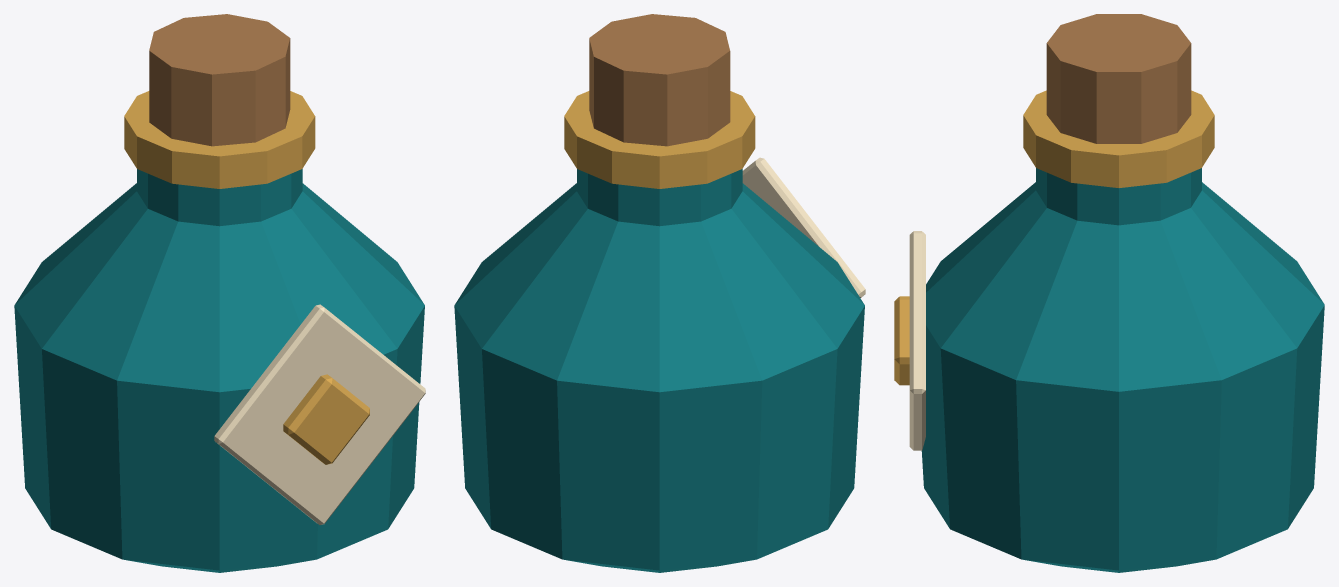
File: 14_Alchemy_Bottle.glb
3 renders of one model, left to right at view 1: azimuth 30°, elevation 25°; view 2: azimuth 150°, elevation 25°; view 3: azimuth 270°, elevation 25°, orthographic.
Parts seen in each view (by area): view 1: 14_Alchemy_Bottle__Body; view 2: 14_Alchemy_Bottle__Body; view 3: 14_Alchemy_Bottle__Body.
Boxes of the visible parts, x1,y1,x2,y2 form: 14_Alchemy_Bottle__Body: (14, 14, 425, 572); 14_Alchemy_Bottle__Body: (454, 14, 865, 572); 14_Alchemy_Bottle__Body: (894, 14, 1324, 572).
Size of the model in its own units: 1.14 by 1.47 by 1.19.
Materials: 1 (1 with a texture image).
